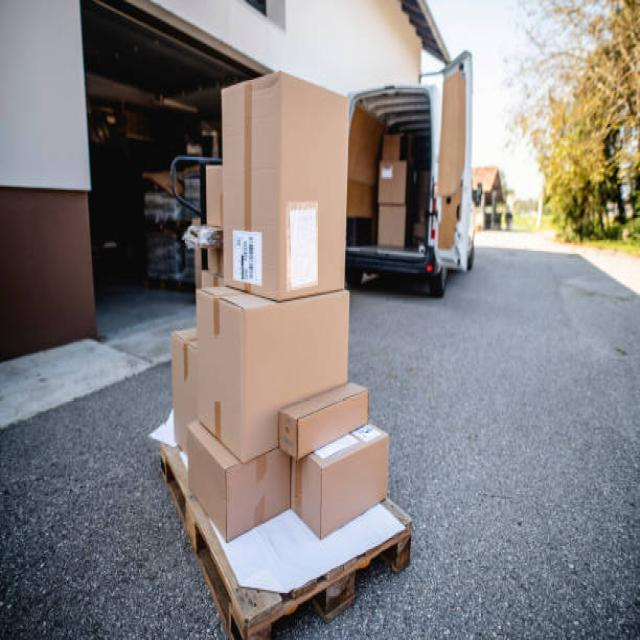Wooden-Pallets: (155, 436, 415, 640)
